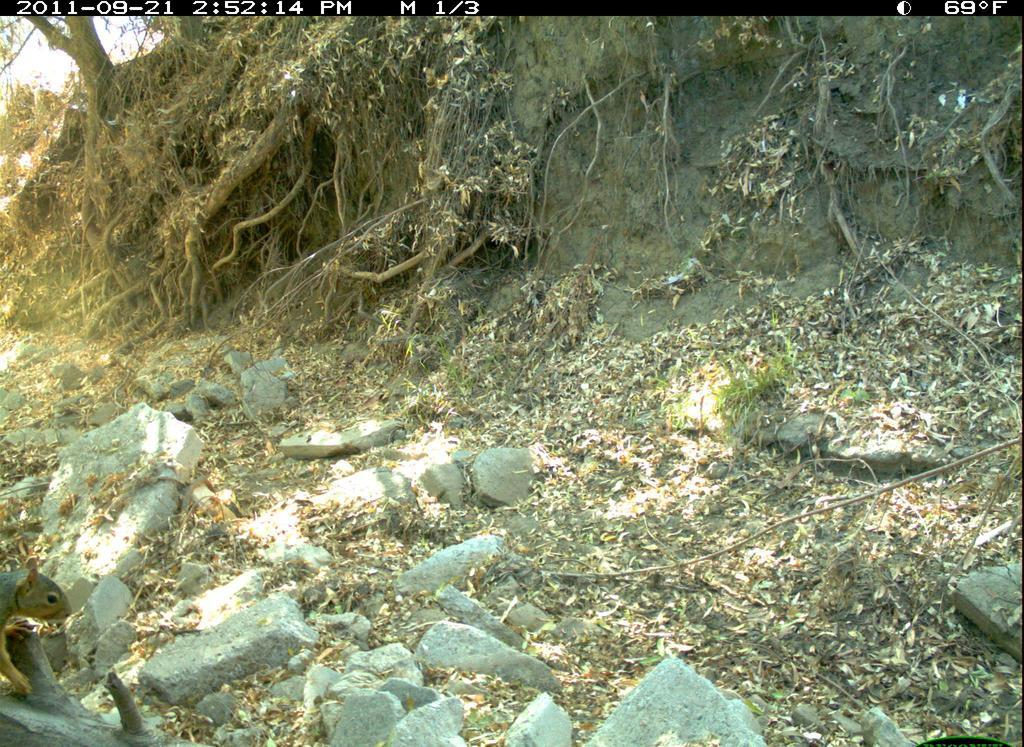squirrel: (1, 559, 75, 699)
